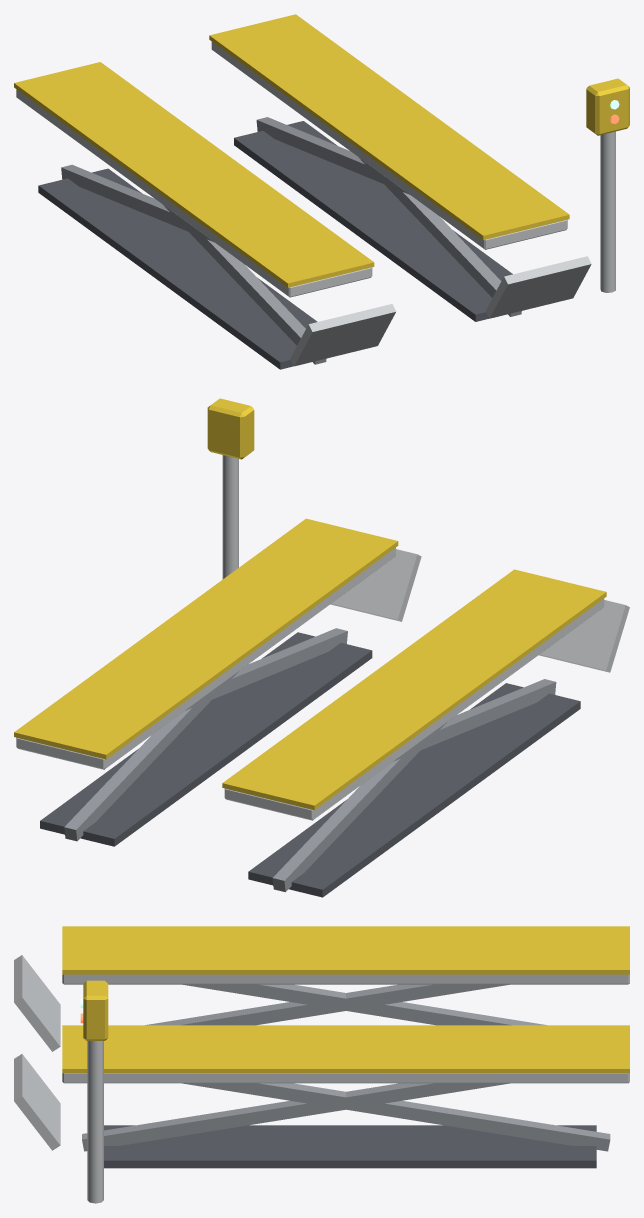
Rendered from vehicle_lift.glb.
3 views of the same model, one above another, from view 1: azimuth 30°, elevation 25°; view 2: azimuth 150°, elevation 25°; view 3: azimuth 270°, elevation 25° (orthographic). The views are drawn at different scales.
Parts seen in each view (by area): view 1: vehicle_lift; view 2: vehicle_lift; view 3: vehicle_lift.
Part boxes in pixels (left/top/right/bottom): vehicle_lift: left=14, top=14, right=629, bottom=369; vehicle_lift: left=14, top=398, right=629, bottom=897; vehicle_lift: left=14, top=926, right=629, bottom=1203.
Size of the model in its own units: 2.53 by 1.4 by 3.69.
